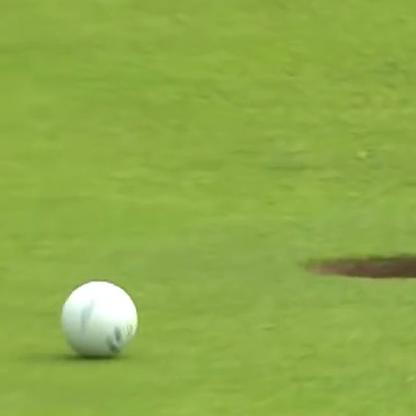golfball: (63, 273, 137, 353)
